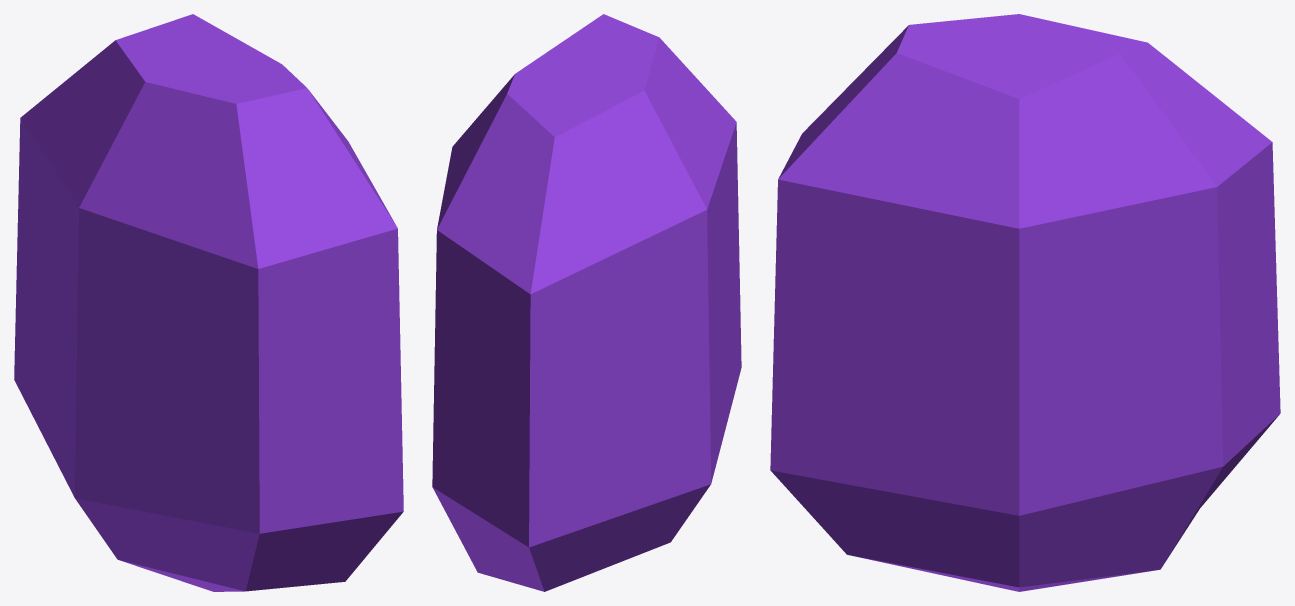
Rendered from SM_Amethyst_Flawed.fbx.
The picture shows the model from 3 angles, left to right: view 1: azimuth 30°, elevation 25°; view 2: azimuth 150°, elevation 25°; view 3: azimuth 270°, elevation 25°; orthographic projection. The views are drawn at different scales.
Parts seen in each view (by area): view 1: SM_Amethyst_Flawed; view 2: SM_Amethyst_Flawed; view 3: SM_Amethyst_Flawed.
Part boxes in pixels (x1,y1,x2,y2): SM_Amethyst_Flawed: (14,14,403,591); SM_Amethyst_Flawed: (432,14,741,591); SM_Amethyst_Flawed: (770,14,1280,591).
Bounding box in the file's own units: 9.36 × 14.42 × 17.35.
